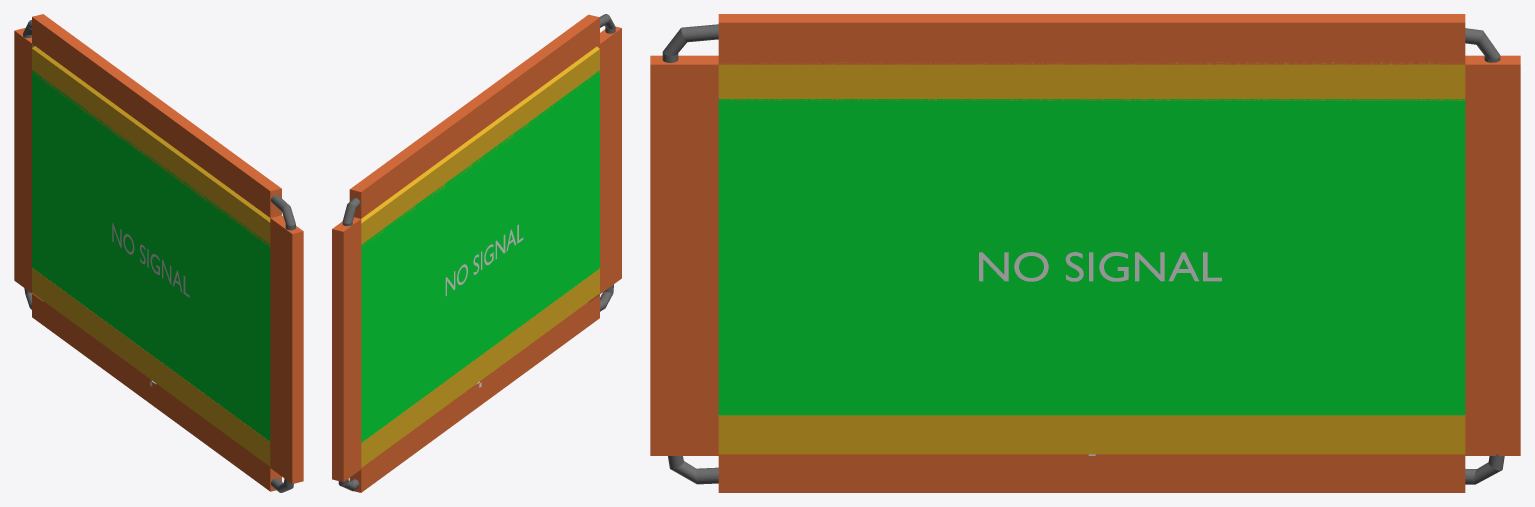
The model's file is billboard empty.fbx.
3 views of the same model, side by side, from view 1: azimuth 30°, elevation 25°; view 2: azimuth 150°, elevation 25°; view 3: azimuth 270°, elevation 25° (orthographic). The views are drawn at different scales.
Parts seen in each view (by area): view 1: Cube, Cube.005, Cube.002, Cube.006, Cube.003, Cube.007, Cube.004, Text.001, Cylinder; view 2: Cube, Cube.005, Cube.004, Cube.006, Cube.003, Cube.007, Cube.002, Text.001; view 3: Cube, Cube.005, Cube.007, Cube.003, Cube.006, Cube.002, Cube.004, Text, Cylinder.
Part boxes in pixels (bbox=[...]): Cube: bbox=[32, 70, 270, 441]; Cube.005: bbox=[32, 14, 281, 217]; Cube.002: bbox=[270, 215, 303, 483]; Cube.006: bbox=[32, 46, 281, 247]; Cube.003: bbox=[32, 293, 281, 491]; Cube.007: bbox=[32, 268, 270, 466]; Cube.004: bbox=[14, 28, 34, 293]; Text.001: bbox=[112, 223, 189, 297]; Cylinder: bbox=[271, 194, 295, 230]; Cube: bbox=[361, 70, 599, 442]; Cube.005: bbox=[349, 14, 599, 218]; Cube.004: bbox=[332, 217, 361, 482]; Cube.006: bbox=[361, 46, 599, 244]; Cube.003: bbox=[349, 294, 599, 492]; Cube.007: bbox=[361, 268, 599, 467]; Cube.002: bbox=[597, 26, 621, 294]; Text.001: bbox=[445, 224, 523, 295]; Cube: bbox=[718, 99, 1465, 415]; Cube.005: bbox=[718, 14, 1465, 64]; Cube.007: bbox=[718, 415, 1465, 454]; Cube.003: bbox=[718, 454, 1465, 492]; Cube.006: bbox=[718, 62, 1465, 100]; Cube.002: bbox=[650, 55, 718, 455]; Cube.004: bbox=[1465, 55, 1520, 455]; Text: bbox=[979, 252, 1221, 281]; Cylinder: bbox=[662, 24, 718, 62].
Size of the model in its own units: 833 by 14403 by 24166.
